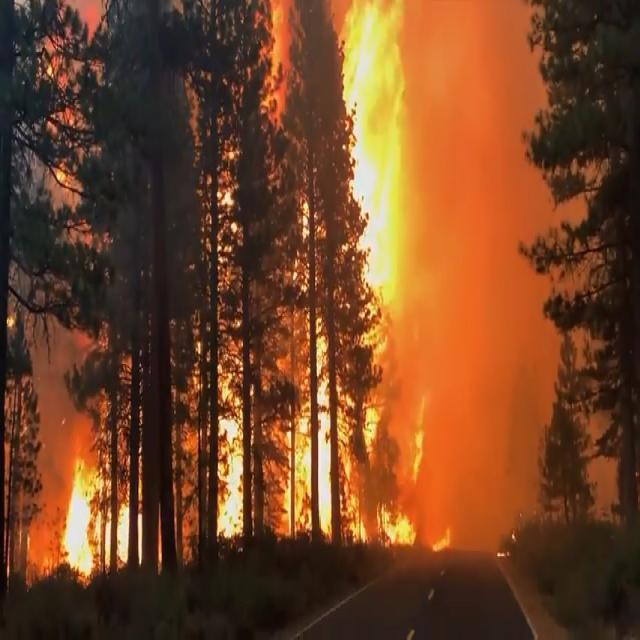Fire: (271, 0, 450, 550), (52, 448, 138, 575)
